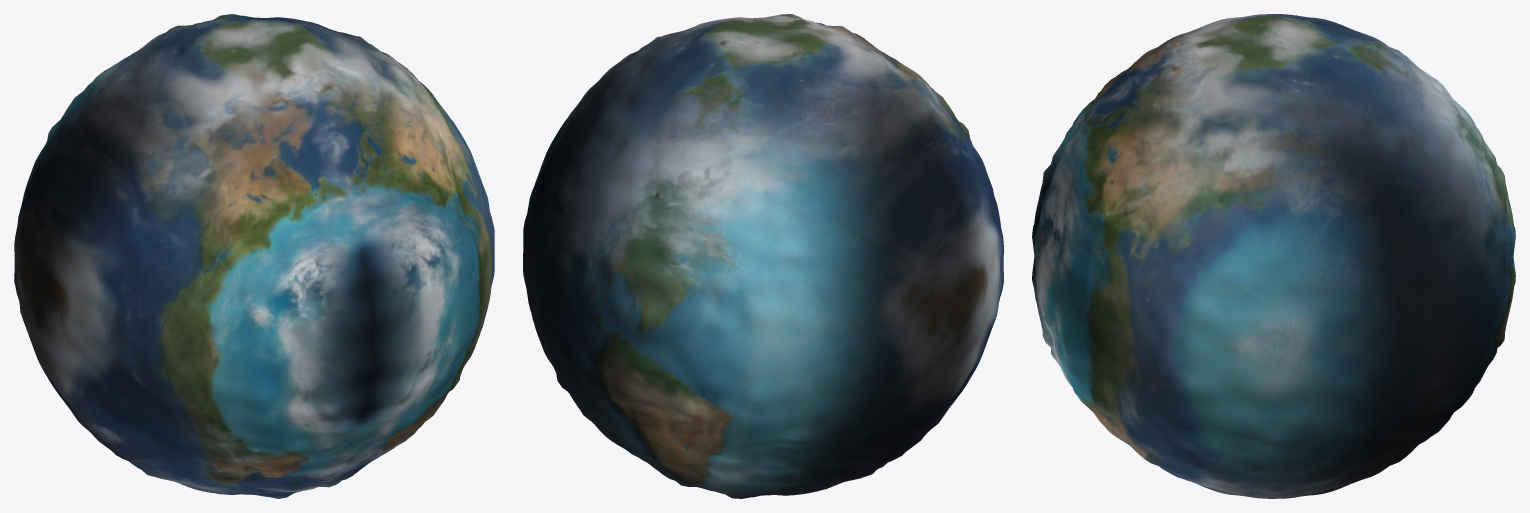
Rendered from a_planet.glb.
The picture shows the model from 3 angles, left to right: view 1: azimuth 30°, elevation 25°; view 2: azimuth 150°, elevation 25°; view 3: azimuth 270°, elevation 25°; orthographic projection.
Bounding box in the file's own units: 1.97 × 1.97 × 1.97.
1 material, 1 textured.
